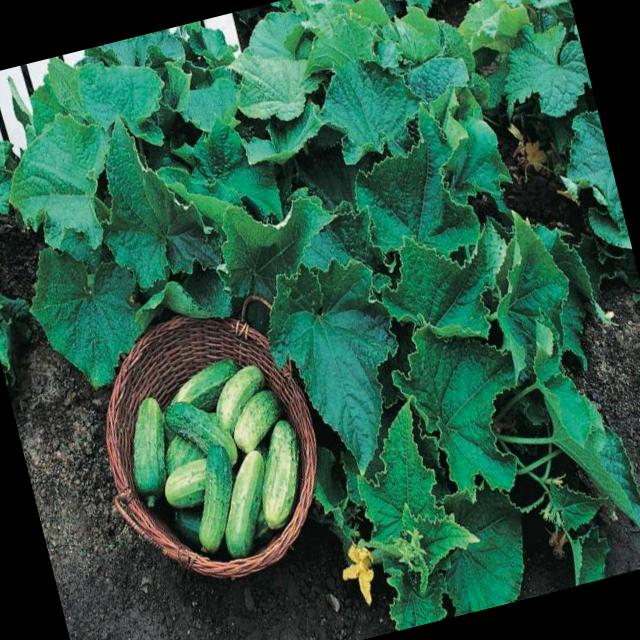Cucumber: (206, 447, 286, 558), (242, 418, 318, 532), (178, 442, 252, 557), (115, 392, 183, 502), (160, 391, 240, 484), (222, 387, 290, 458)
